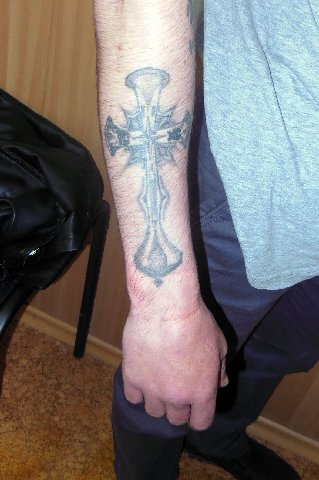tatu9_krest: (99, 64, 201, 291)
